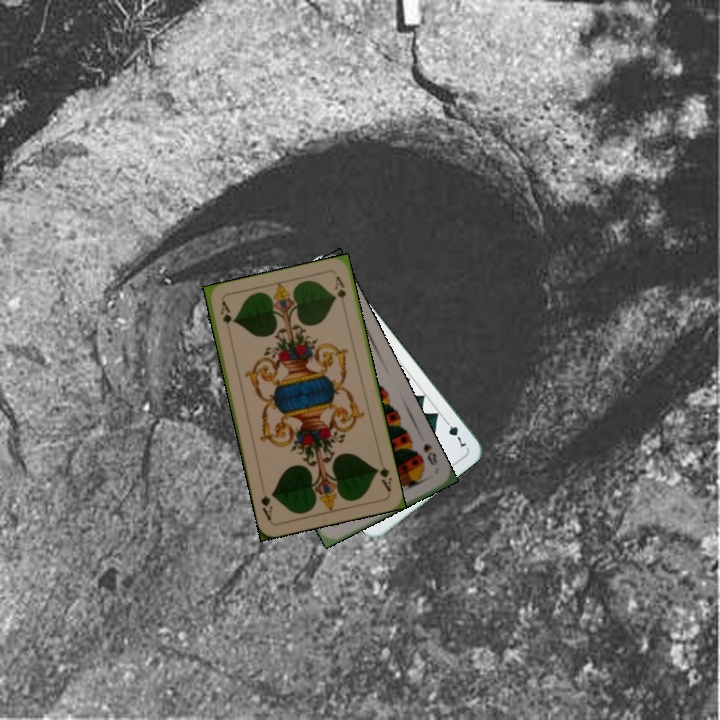G7: (440, 415, 469, 451)
GA: (216, 297, 234, 338), (372, 463, 394, 494)
S8: (419, 439, 440, 468)
